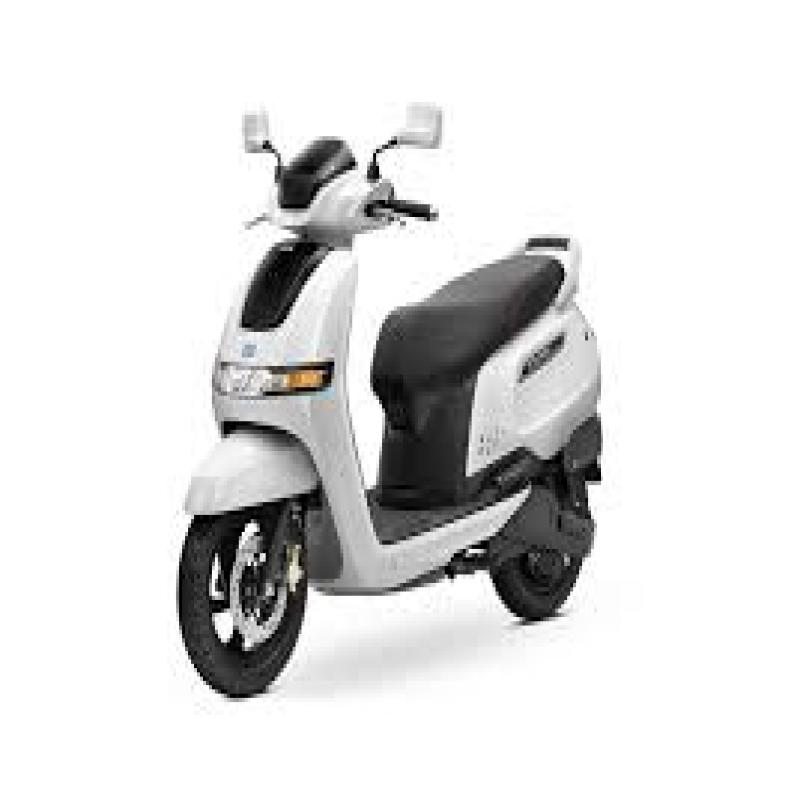bike: (163, 77, 609, 720)
